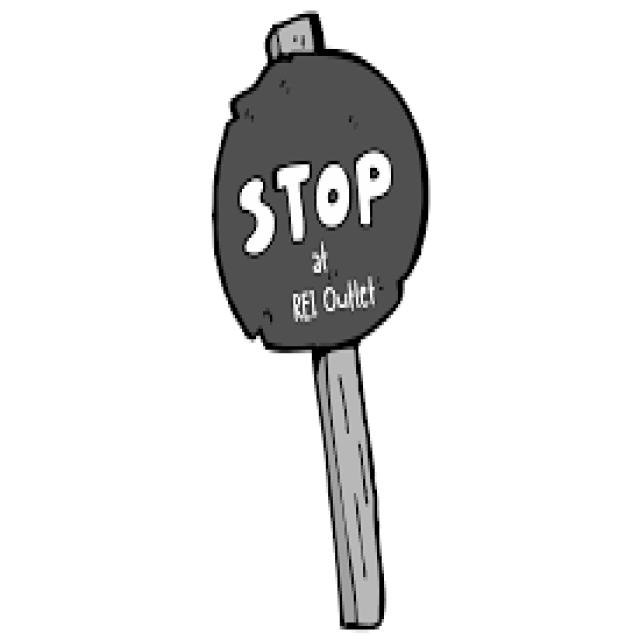stop sign: (211, 54, 433, 352)
